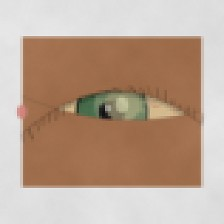corneal_ulcer: (93, 81, 153, 129)
